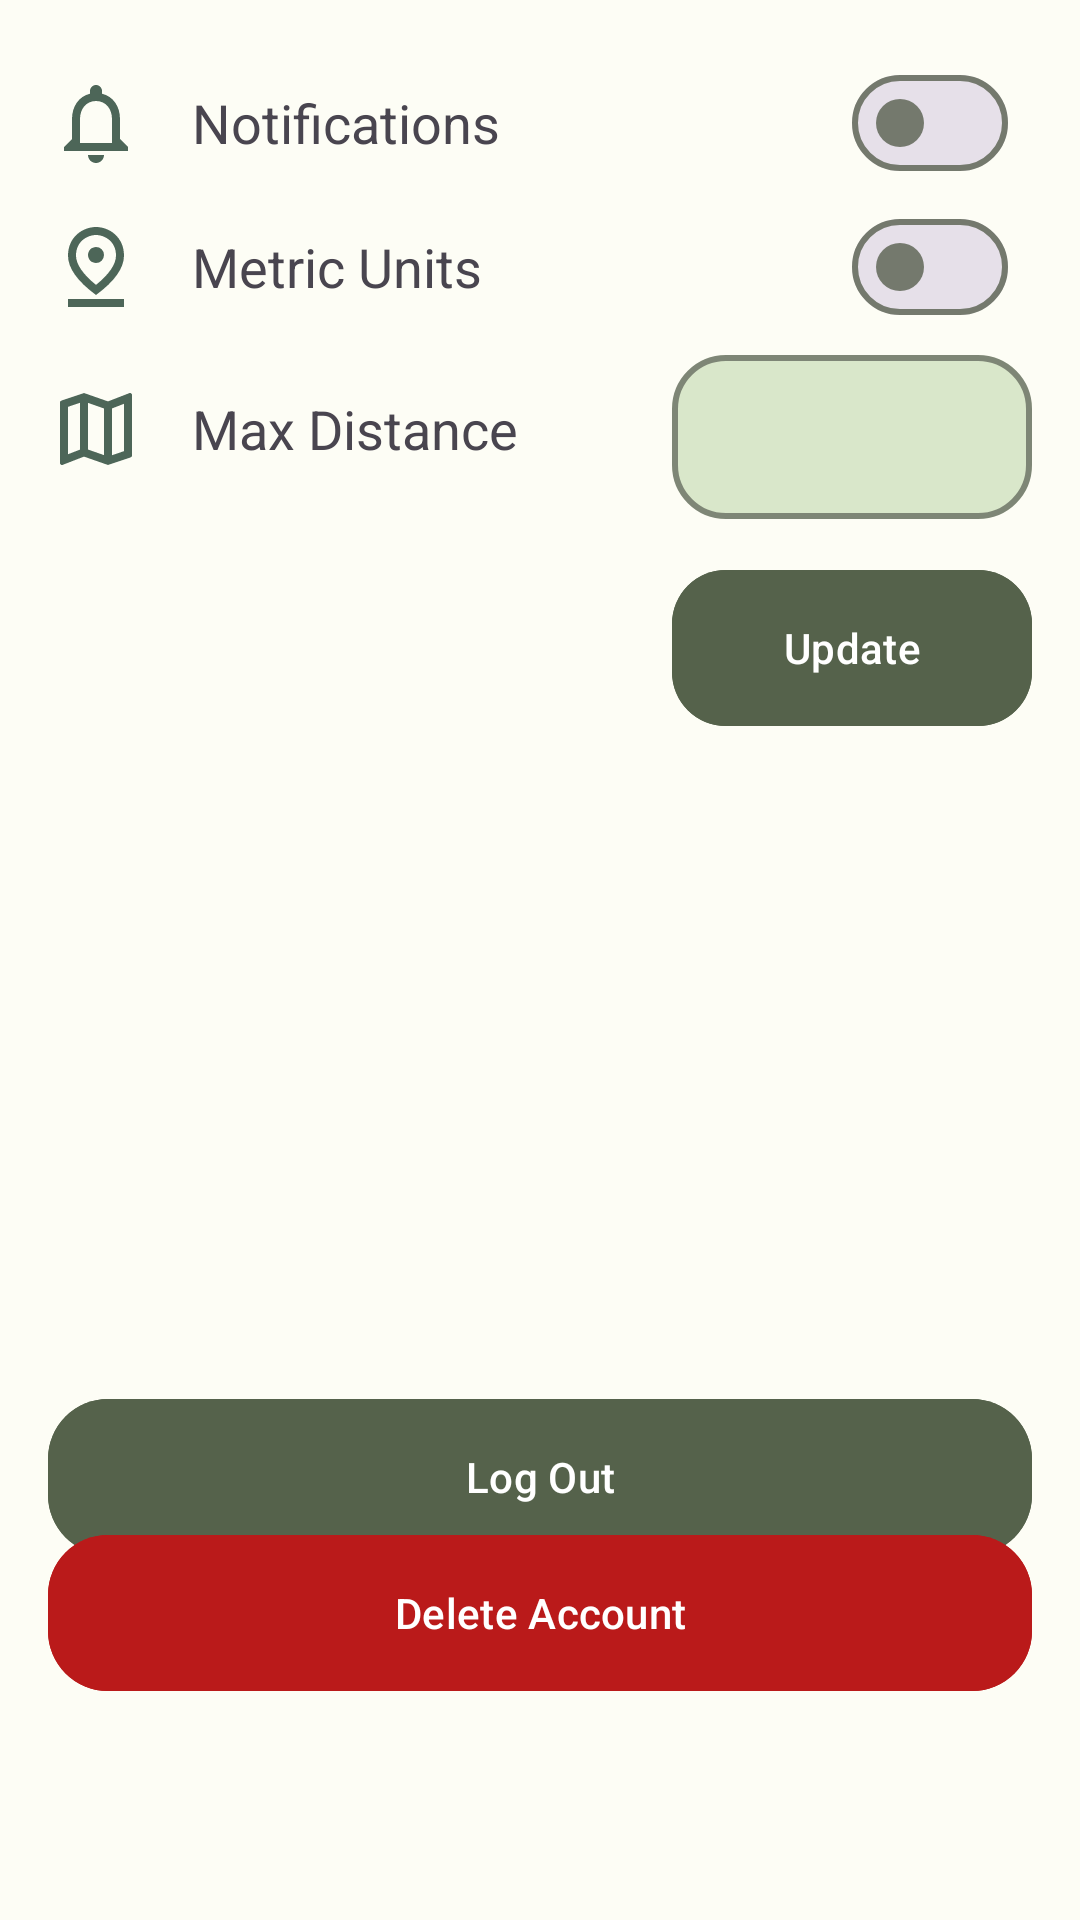

Point at icon controls on the screen. Image size 1080 x 1920, points as (x=x, y=y).
map: (x=96, y=429)
